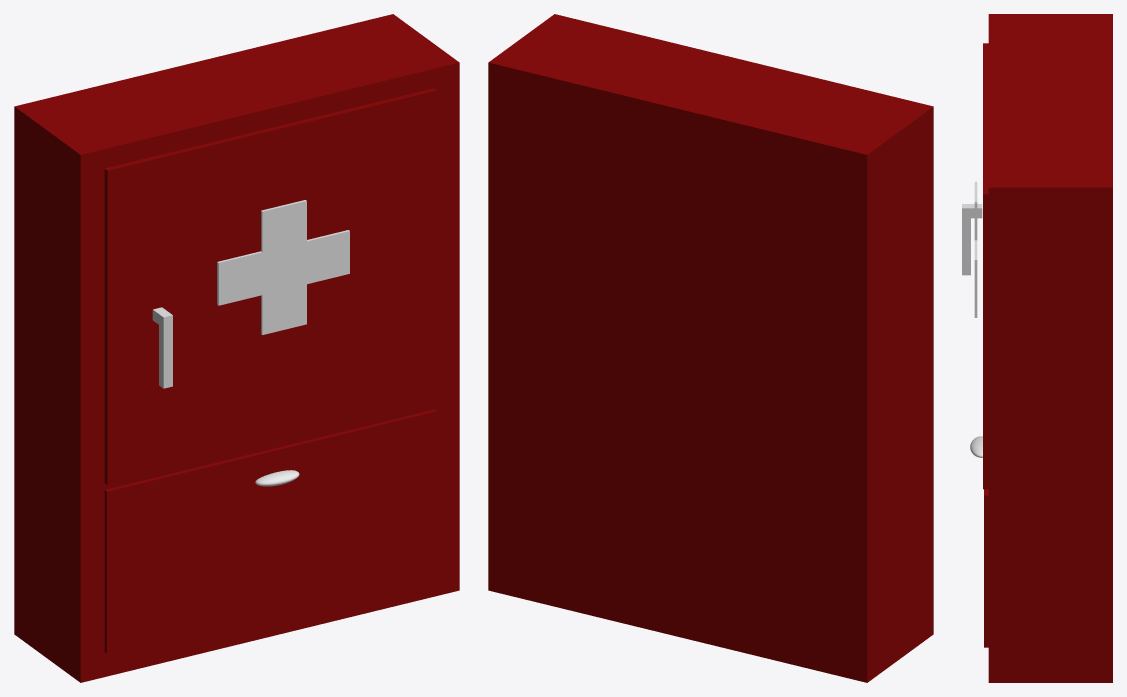
The model's file is first_aid_cit.glb.
3 renders of one model, left to right at view 1: azimuth 30°, elevation 25°; view 2: azimuth 150°, elevation 25°; view 3: azimuth 270°, elevation 25°, orthographic. The views are drawn at different scales.
Visible parts, largest first — view 1: Plane, Plane.001, Plane.002, Plane.003, Cube; view 2: Plane; view 3: Plane, Plane.001, Cube, Plane.002, Plane.003.
Boxes of the visible parts, x1,y1,x2,y2 form: Plane: [14, 14, 459, 682]; Plane.001: [104, 88, 437, 485]; Plane.002: [104, 409, 436, 653]; Plane.003: [217, 200, 349, 334]; Cube: [152, 307, 172, 388]; Plane: [488, 14, 933, 682]; Plane: [988, 14, 1112, 682]; Plane.001: [983, 43, 988, 489]; Cube: [962, 204, 982, 275]; Plane.002: [984, 489, 988, 647]; Plane.003: [974, 181, 977, 317].
Bounding box in the file's own units: 1.31 × 1.74 × 0.4802.
